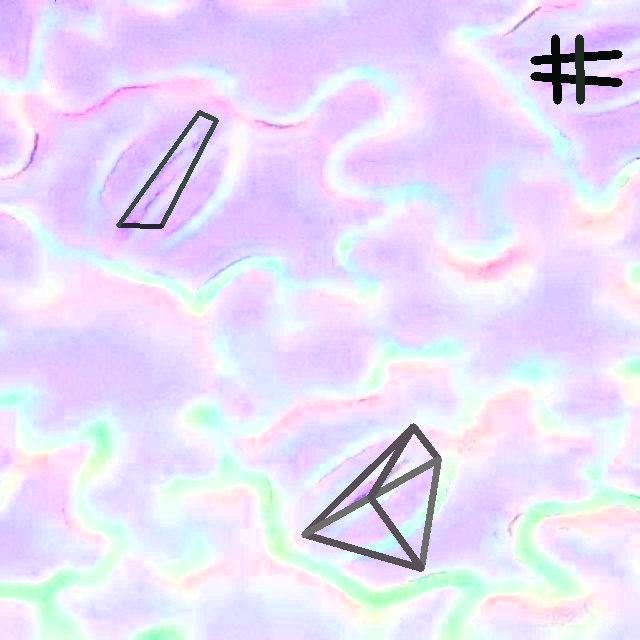open: (301, 424, 440, 570), (116, 111, 217, 227), (530, 34, 622, 103)
